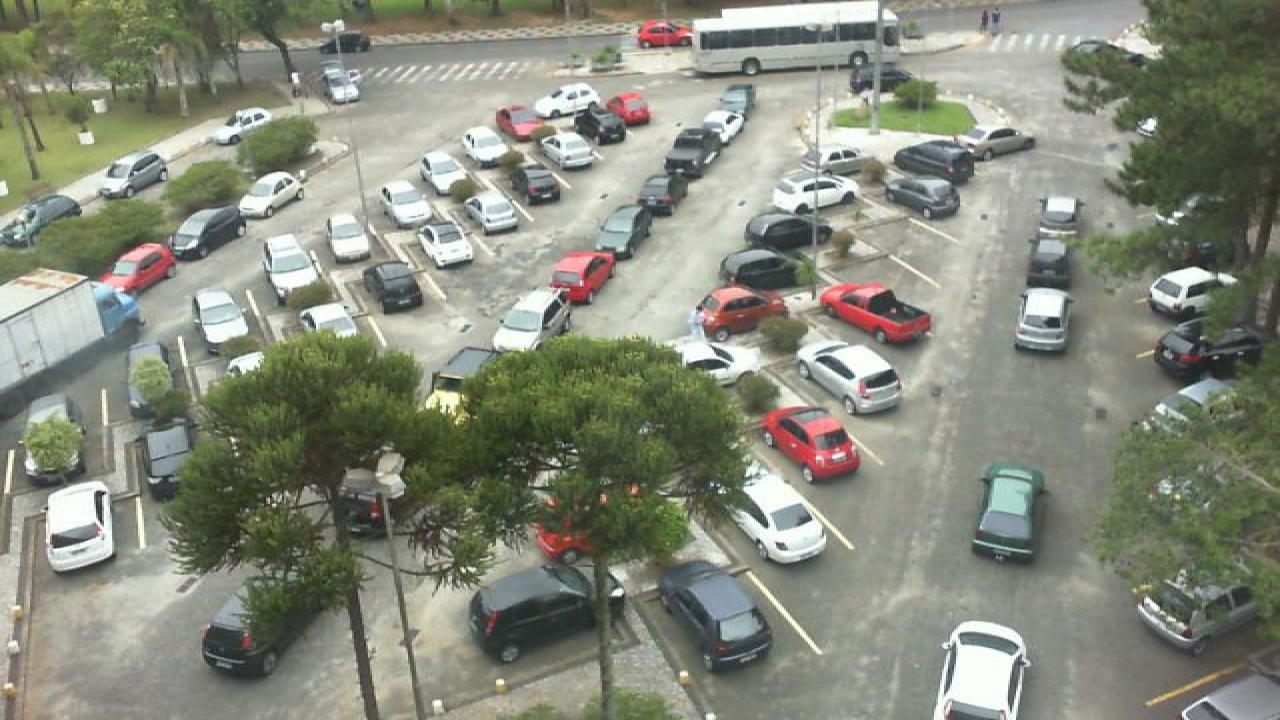Car: (466, 557, 620, 664), (652, 559, 774, 674), (1134, 565, 1266, 656), (720, 460, 830, 566), (198, 577, 298, 680), (930, 620, 1032, 720), (796, 341, 904, 417), (760, 405, 862, 484), (968, 464, 1048, 564), (820, 282, 936, 346), (42, 480, 118, 572), (1150, 324, 1262, 384), (692, 285, 790, 343), (490, 287, 574, 351), (1148, 265, 1236, 323), (0, 194, 84, 252), (92, 242, 176, 297), (166, 207, 250, 262), (892, 137, 978, 186), (546, 250, 620, 306), (720, 246, 804, 294), (1012, 287, 1072, 354), (140, 423, 198, 492), (744, 208, 832, 252), (592, 203, 658, 261), (194, 287, 254, 349), (944, 124, 1038, 163), (772, 176, 862, 216), (884, 175, 964, 220), (360, 261, 426, 315), (236, 170, 308, 219), (96, 150, 170, 197), (260, 234, 322, 290), (674, 342, 750, 386), (662, 127, 724, 180), (418, 222, 480, 271), (208, 107, 276, 147), (324, 212, 374, 264), (296, 303, 358, 344), (468, 192, 524, 236), (532, 82, 602, 117), (1024, 237, 1070, 289), (380, 179, 432, 223), (538, 132, 596, 170), (422, 148, 472, 192), (628, 172, 676, 217), (492, 106, 548, 144), (516, 163, 564, 207), (460, 124, 510, 165), (1038, 194, 1082, 240), (580, 107, 630, 147), (696, 109, 746, 147), (604, 89, 652, 127), (318, 65, 362, 106), (716, 83, 758, 116)
